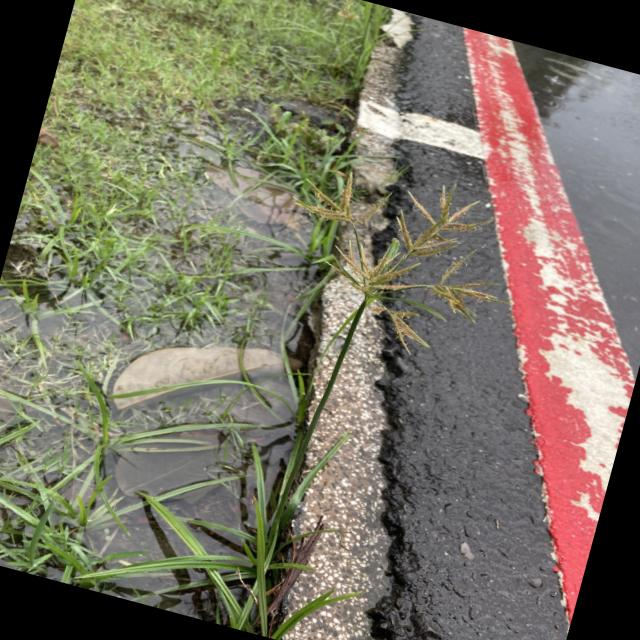cyperus: (250, 134, 534, 388)
